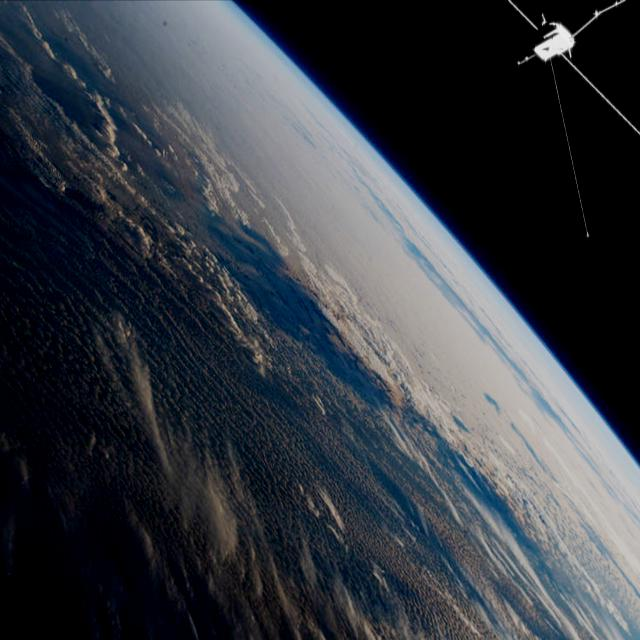satellite: (490, 0, 640, 264)
